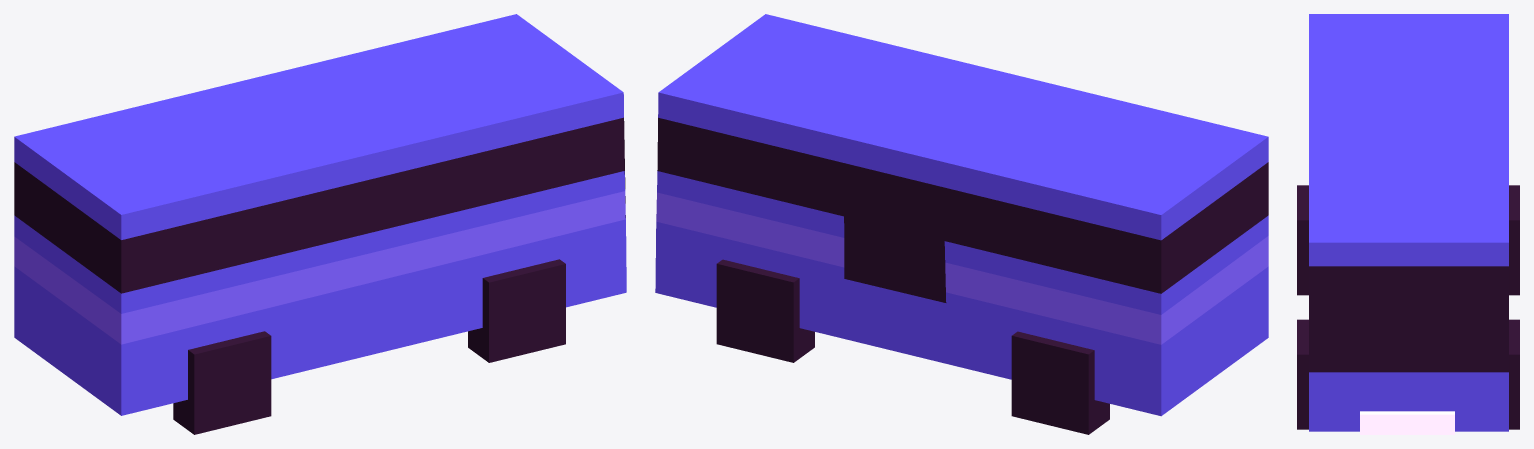
File: Bus_NoSpion_Plat.fbx
3 renders of one model, left to right at view 1: azimuth 30°, elevation 25°; view 2: azimuth 150°, elevation 25°; view 3: azimuth 270°, elevation 25°, orthographic. The views are drawn at different scales.
Visible parts, largest first — view 1: Bus_NoSpion_Plat; view 2: Bus_NoSpion_Plat; view 3: Bus_NoSpion_Plat.
Part boxes in pixels (x1=…): Bus_NoSpion_Plat: x1=14, y1=14, x2=626, y2=434; Bus_NoSpion_Plat: x1=655, y1=14, x2=1268, y2=434; Bus_NoSpion_Plat: x1=1297, y1=14, x2=1519, y2=434.
Size of the model in its own units: 1133 by 489 by 457.
